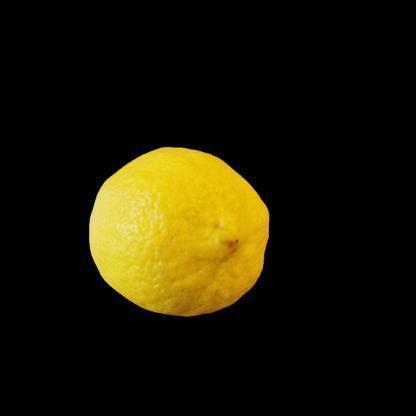lemon: (88, 146, 270, 316)
